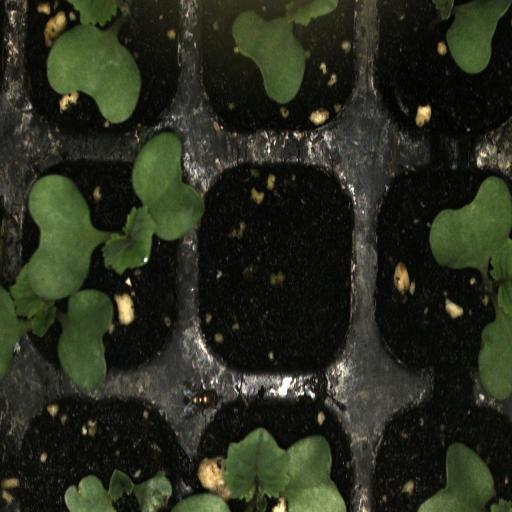Folha: (418, 443, 512, 512), (433, 0, 512, 74), (64, 470, 172, 512)
Germinacao: (8, 162, 196, 381), (365, 157, 512, 385), (16, 0, 195, 142), (198, 0, 366, 147), (197, 388, 363, 512)
